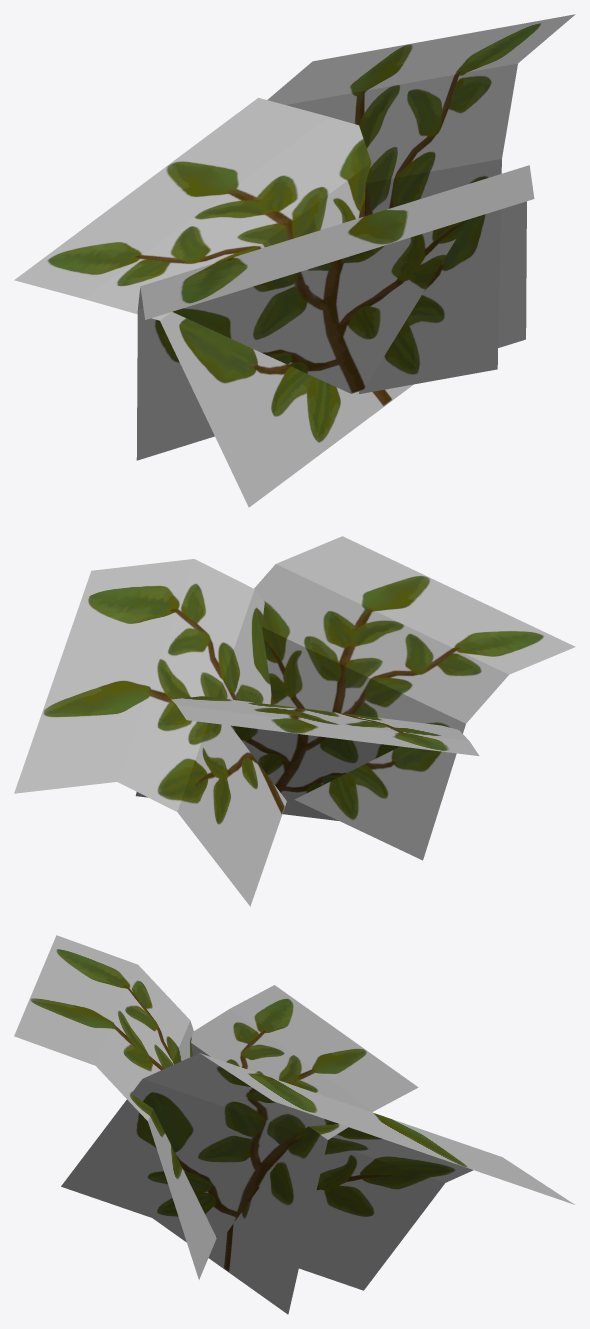
Rendered from Bush_2.fbx.
The picture shows the model from 3 angles, top to bottom: view 1: azimuth 30°, elevation 25°; view 2: azimuth 150°, elevation 25°; view 3: azimuth 270°, elevation 25°; orthographic projection. The views are drawn at different scales.
Visible parts, largest first — view 1: Bush.001; view 2: Bush.001; view 3: Bush.001.
Part boxes in pixels (x1,y1,x2,y2): Bush.001: (14, 14, 575, 507); Bush.001: (14, 536, 575, 906); Bush.001: (14, 935, 574, 1314).
Size of the model in its own units: 1231 by 798 by 1312.
